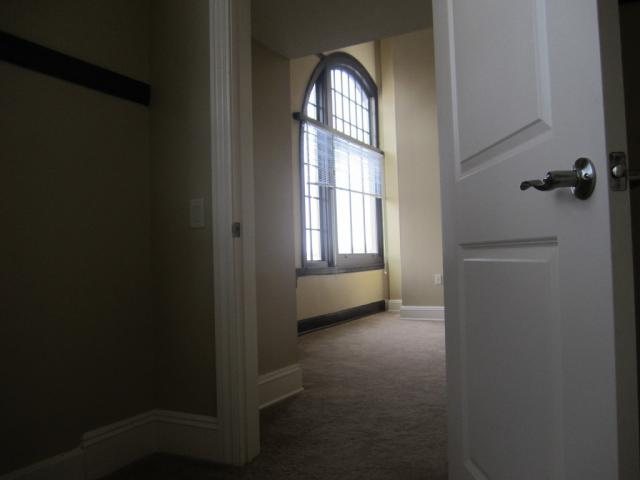Door-handle: (516, 157, 597, 202), (628, 170, 640, 186)
